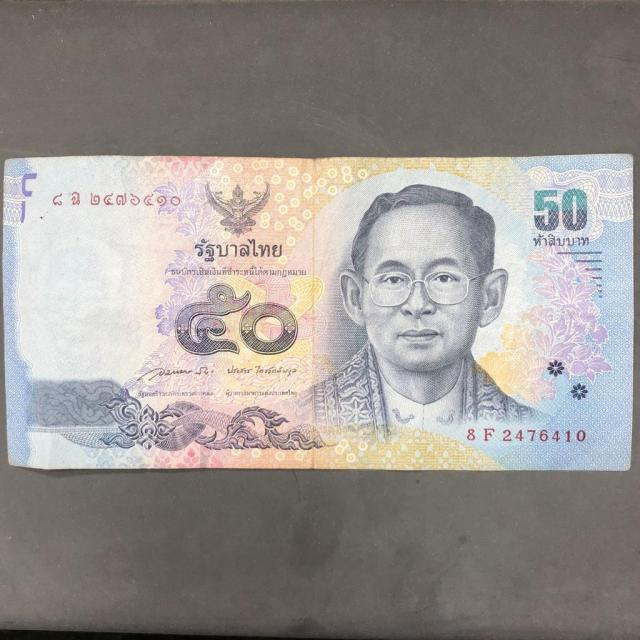THAI50: (0, 153, 639, 478)
